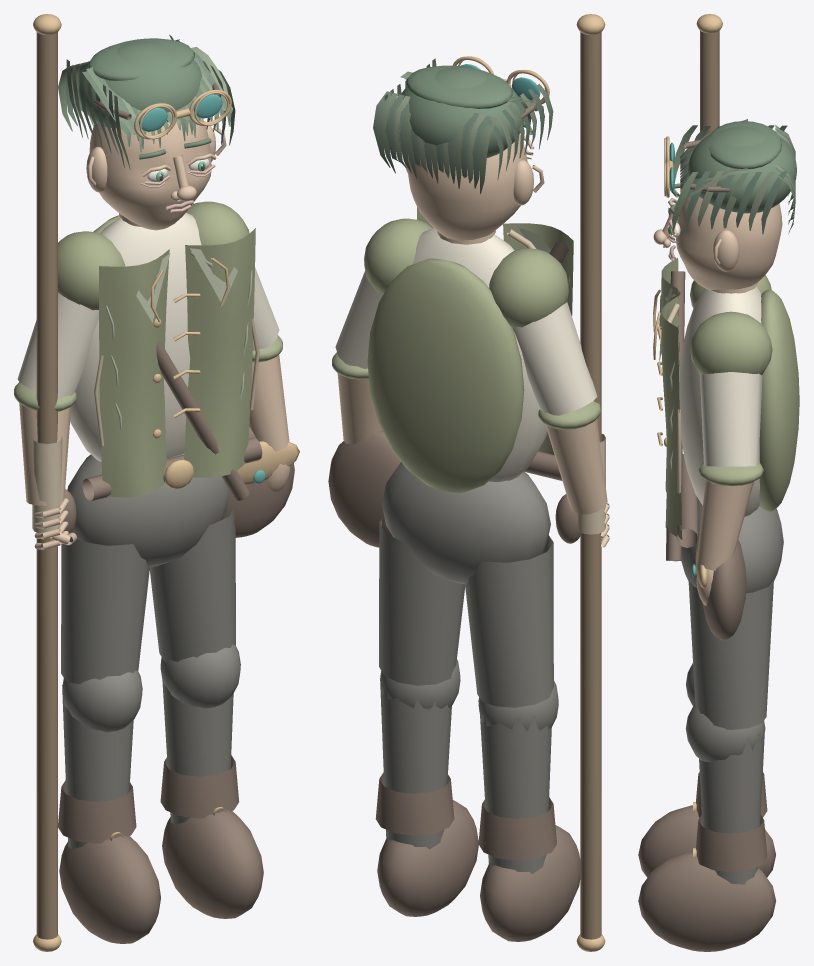
The model's file is Ender_ender_head_landmark_v3.glb.
3 renders of one model, left to right at view 1: azimuth 30°, elevation 25°; view 2: azimuth 150°, elevation 25°; view 3: azimuth 270°, elevation 25°, orthographic. The views are drawn at different scales.
Parts seen in each view (by area): view 1: Ender_lookdev; view 2: Ender_lookdev; view 3: Ender_lookdev.
Part boxes in pixels (x1,y1,x2,y2): Ender_lookdev: (14, 14, 299, 951); Ender_lookdev: (328, 14, 609, 951); Ender_lookdev: (638, 14, 799, 951).
Bounding box in the file's own units: 0.5632 × 1.86 × 0.316.
